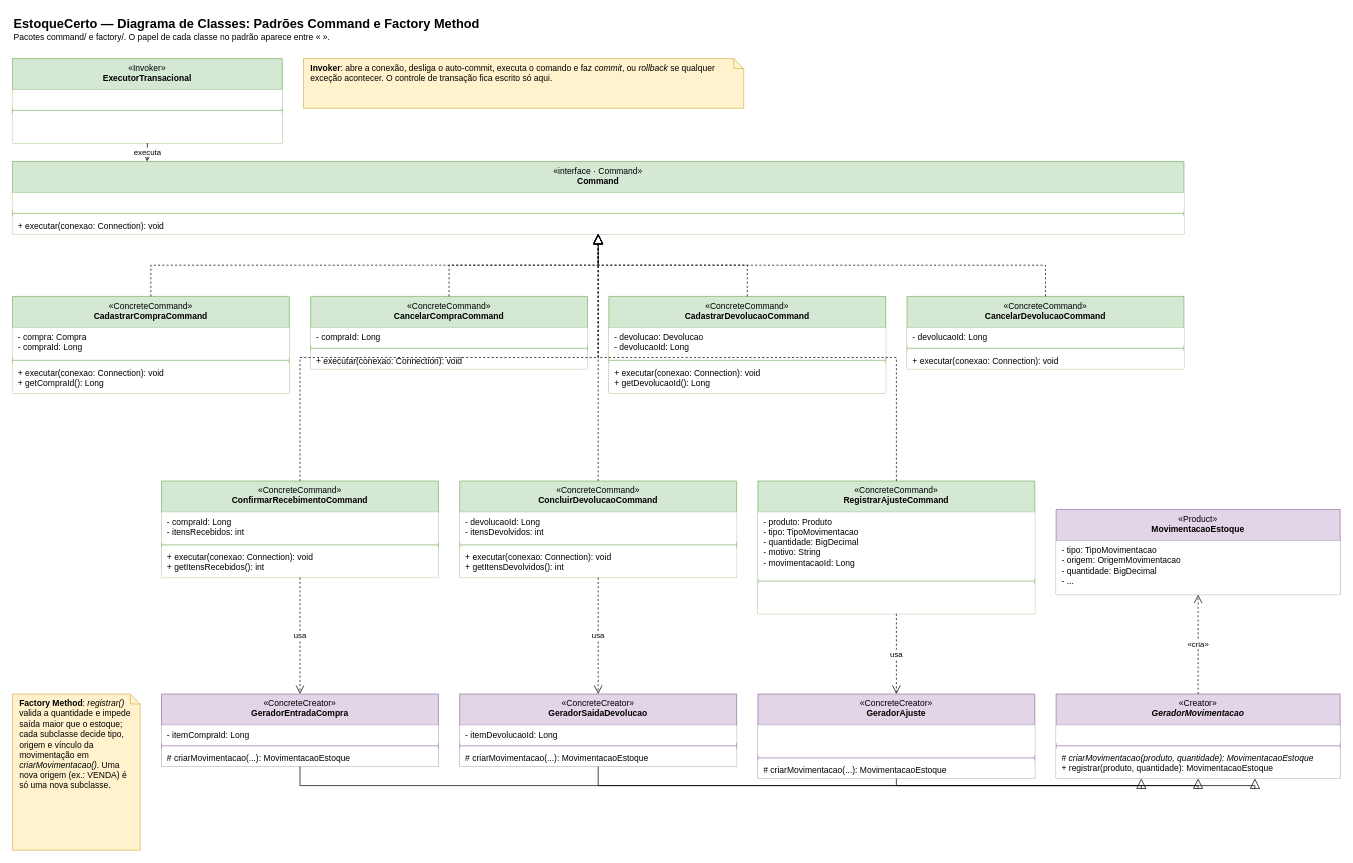
Some shapes in this 1353 by 863 pixel diagram are drawn without their labels. Here are the shapes that lost their labels. From the top down, the centre of each, then its label:
At point (147, 128): "+ executar(comando: Command): void - desfazer(conexao, erro): void".
At point (896, 598): "+ executar(conexao: Connection): void + getMovimentacaoId(): Long".
At point (896, 740): "- tipo: TipoMovimentacao - motivo: String".
